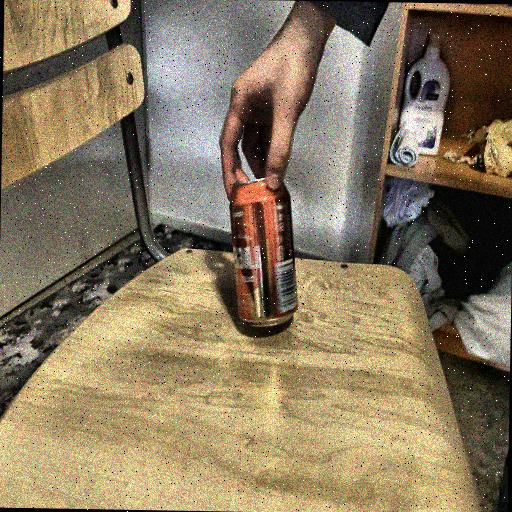coop_larger: (228, 170, 297, 333)
